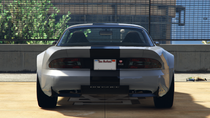car: (36, 23, 176, 108)
